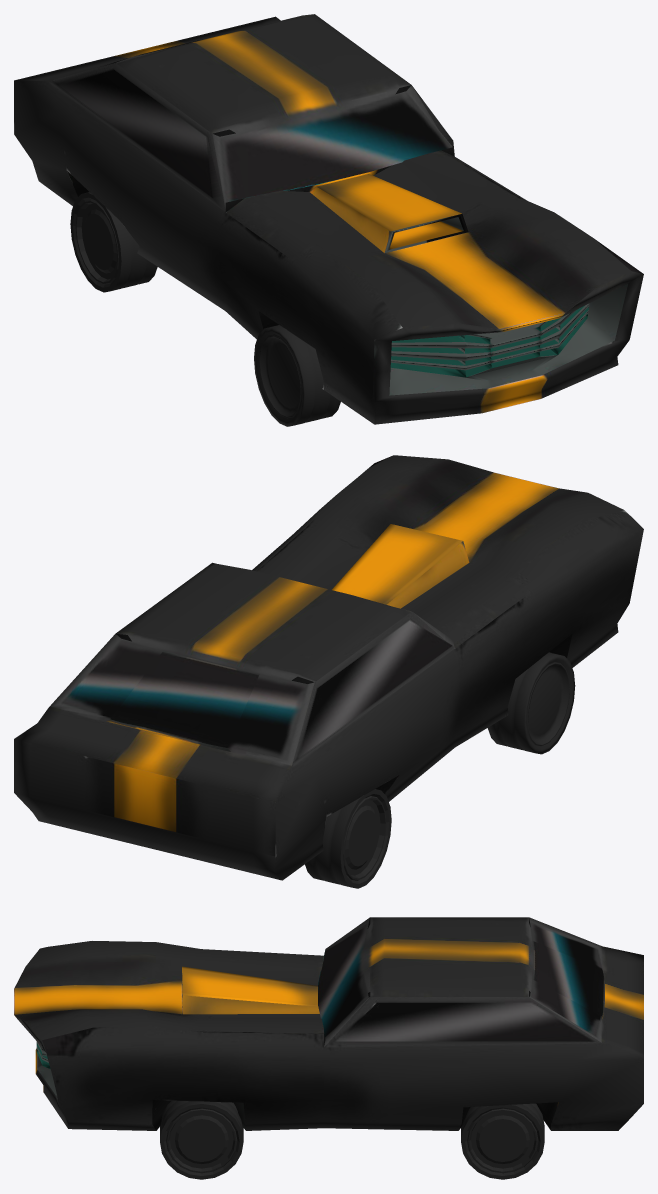
Rendered from NEWcar.fbx.
3 renders of one model, top to bottom at view 1: azimuth 30°, elevation 25°; view 2: azimuth 150°, elevation 25°; view 3: azimuth 270°, elevation 25°, orthographic. The views are drawn at different scales.
Visible parts, largest first — view 1: car_high1, pCylinder4, pCylinder5; view 2: car_high1, pCylinder4, pCylinder5; view 3: car_high1, pCylinder7, pCylinder6.
Boxes of the visible parts, bbox=[...] form: car_high1: bbox=[14, 14, 643, 424]; pCylinder4: bbox=[254, 325, 340, 426]; pCylinder5: bbox=[70, 192, 157, 292]; car_high1: bbox=[14, 455, 643, 880]; pCylinder4: bbox=[487, 652, 575, 754]; pCylinder5: bbox=[305, 789, 391, 888]; car_high1: bbox=[14, 917, 643, 1130]; pCylinder7: bbox=[160, 1100, 243, 1179]; pCylinder6: bbox=[461, 1103, 544, 1179].
Size of the model in its own units: 2.44 by 1.8 by 5.8.
